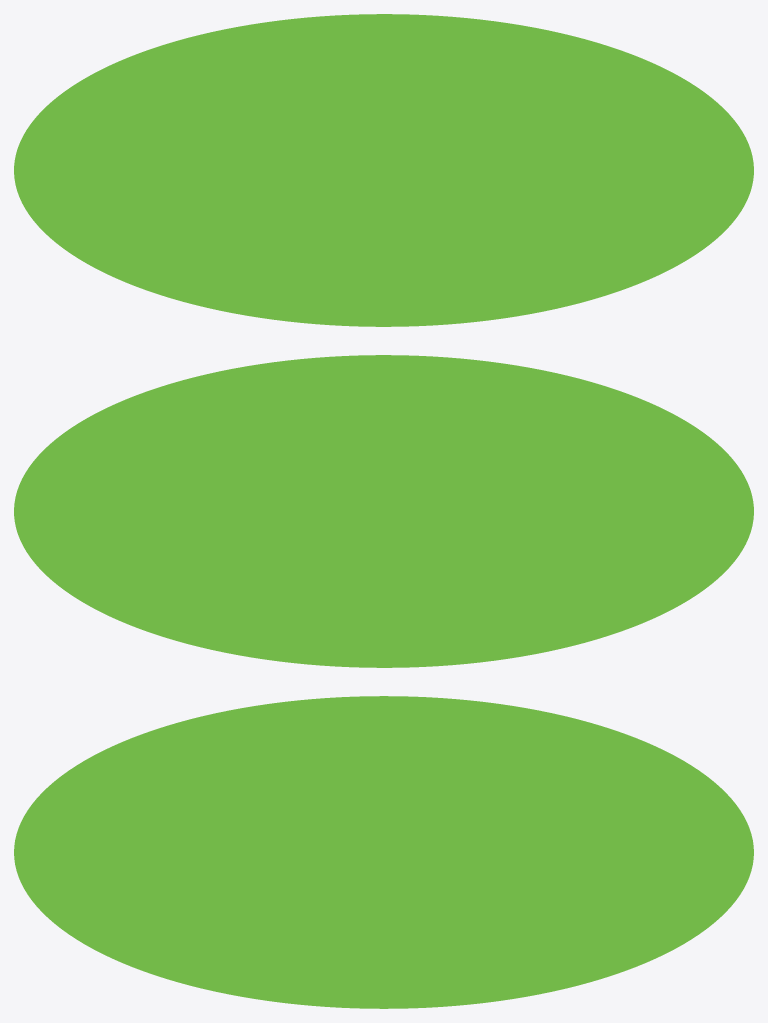
File: liquidoCaldero.fbx
The picture shows the model from 3 angles, top to bottom: view 1: azimuth 30°, elevation 25°; view 2: azimuth 150°, elevation 25°; view 3: azimuth 270°, elevation 25°; orthographic projection.
Parts seen in each view (by area): view 1: liquidoCaldero; view 2: liquidoCaldero; view 3: liquidoCaldero.
Boxes of the visible parts, x1=… form: liquidoCaldero: x1=14, y1=14, x2=753, y2=326; liquidoCaldero: x1=14, y1=355, x2=753, y2=667; liquidoCaldero: x1=14, y1=696, x2=753, y2=1008.
Bounding box in the file's own units: 1.91 × 7.63e-07 × 1.91.
